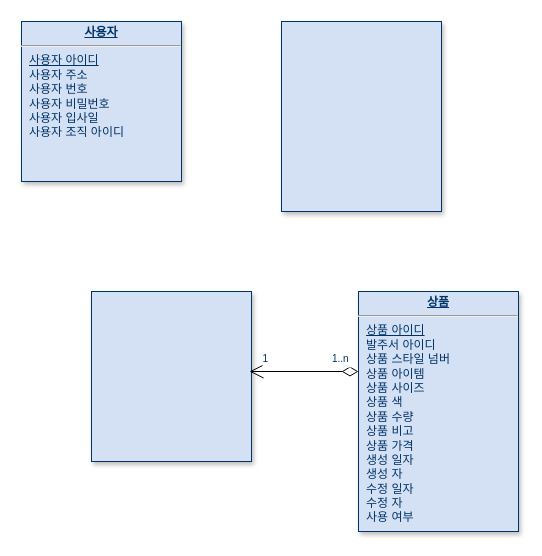
This 542x556 diagram has some shape labels left out. Each missing label, with the centre of its shape:
"발주서 발주서 아이디 발주서 조직 아이디 발주서 발주일 발주서 납기일 생성 일자 생성 자 수정 일자 수정 자 사용 여부" goes at point (172, 377).
"조직 조직 아이디 조직 이름 조직 주소 조직 번호 조직 팩스 번호 생성 일자 생성 자 수정 일자 수정 자 사용 여부" goes at point (362, 117).
